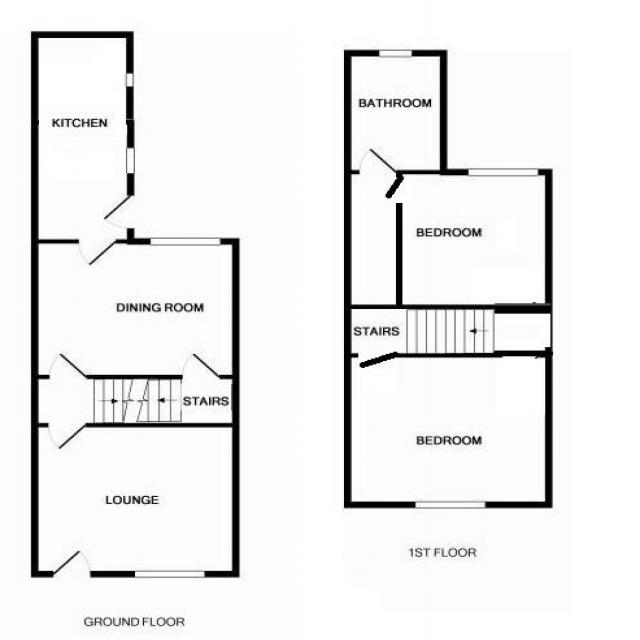DOOR: (74, 238, 128, 268), (47, 546, 97, 578), (356, 144, 405, 174), (101, 190, 135, 232), (180, 349, 226, 379), (46, 349, 91, 379), (45, 423, 87, 451)
ROOM: (344, 350, 553, 508), (31, 423, 240, 578), (31, 238, 240, 380), (30, 31, 134, 272), (396, 169, 553, 308)
WINDOW: (410, 498, 489, 512), (463, 166, 541, 178), (147, 235, 224, 247), (133, 568, 206, 579), (376, 47, 415, 59), (123, 146, 138, 176), (124, 71, 136, 88)
